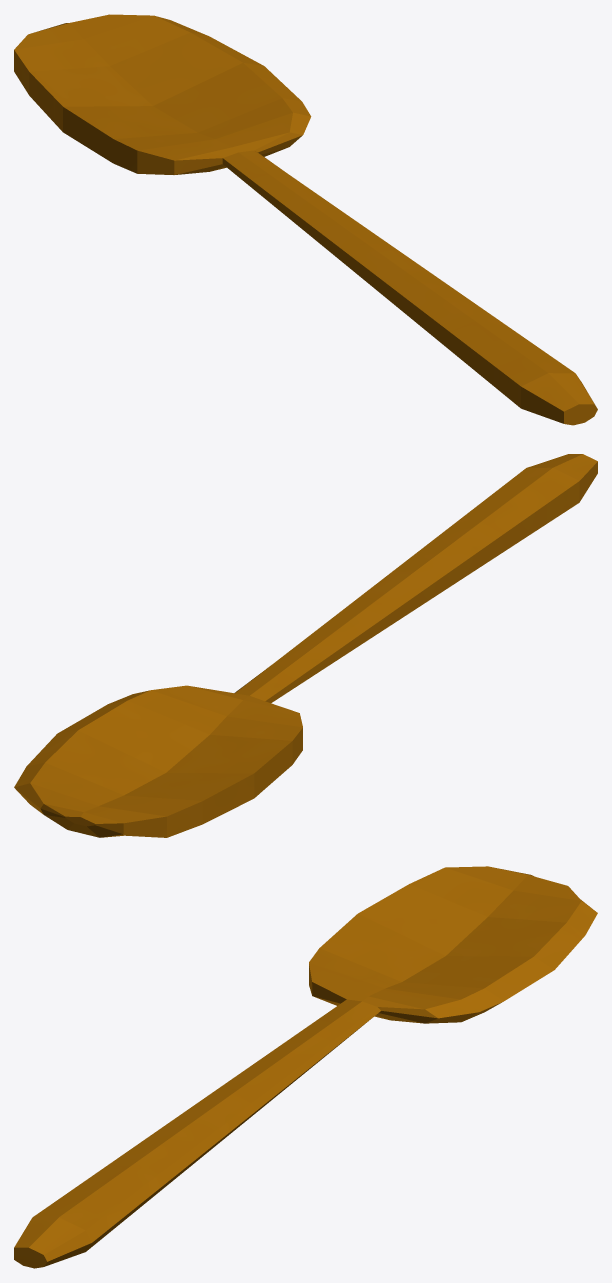
Rendered from Spoon.fbx.
3 views of the same model, one above another, from view 1: azimuth 30°, elevation 25°; view 2: azimuth 150°, elevation 25°; view 3: azimuth 330°, elevation 25° (orthographic). The views are drawn at different scales.
Parts seen in each view (by area): view 1: Spoon; view 2: Spoon; view 3: Spoon.
Part boxes in pixels (x1=…): Spoon: x1=14, y1=14, x2=597, y2=425; Spoon: x1=14, y1=454, x2=597, y2=837; Spoon: x1=14, y1=866, x2=597, y2=1268.
Size of the model in its own units: 3.07 by 0.5518 by 13.58.
